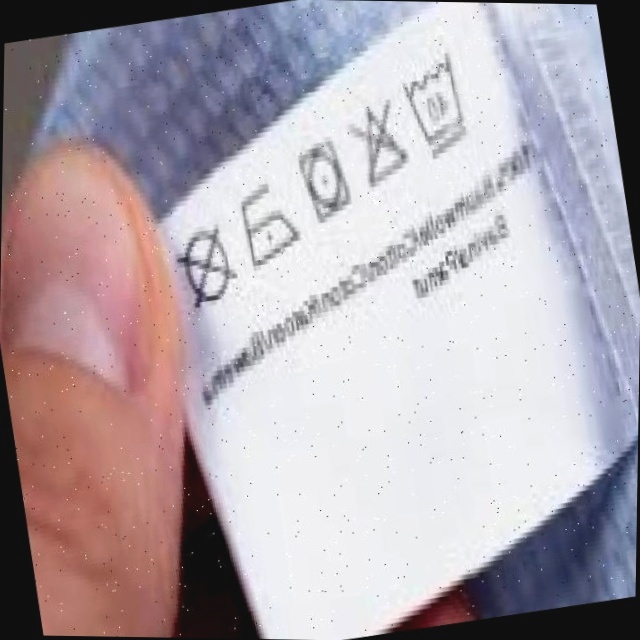40C: (395, 51, 484, 158)
DN_bleach: (343, 97, 418, 192)
DN_dry_clean: (168, 219, 246, 315)
iron_low: (230, 177, 306, 271)
tumble_dry_low: (292, 137, 359, 225)
